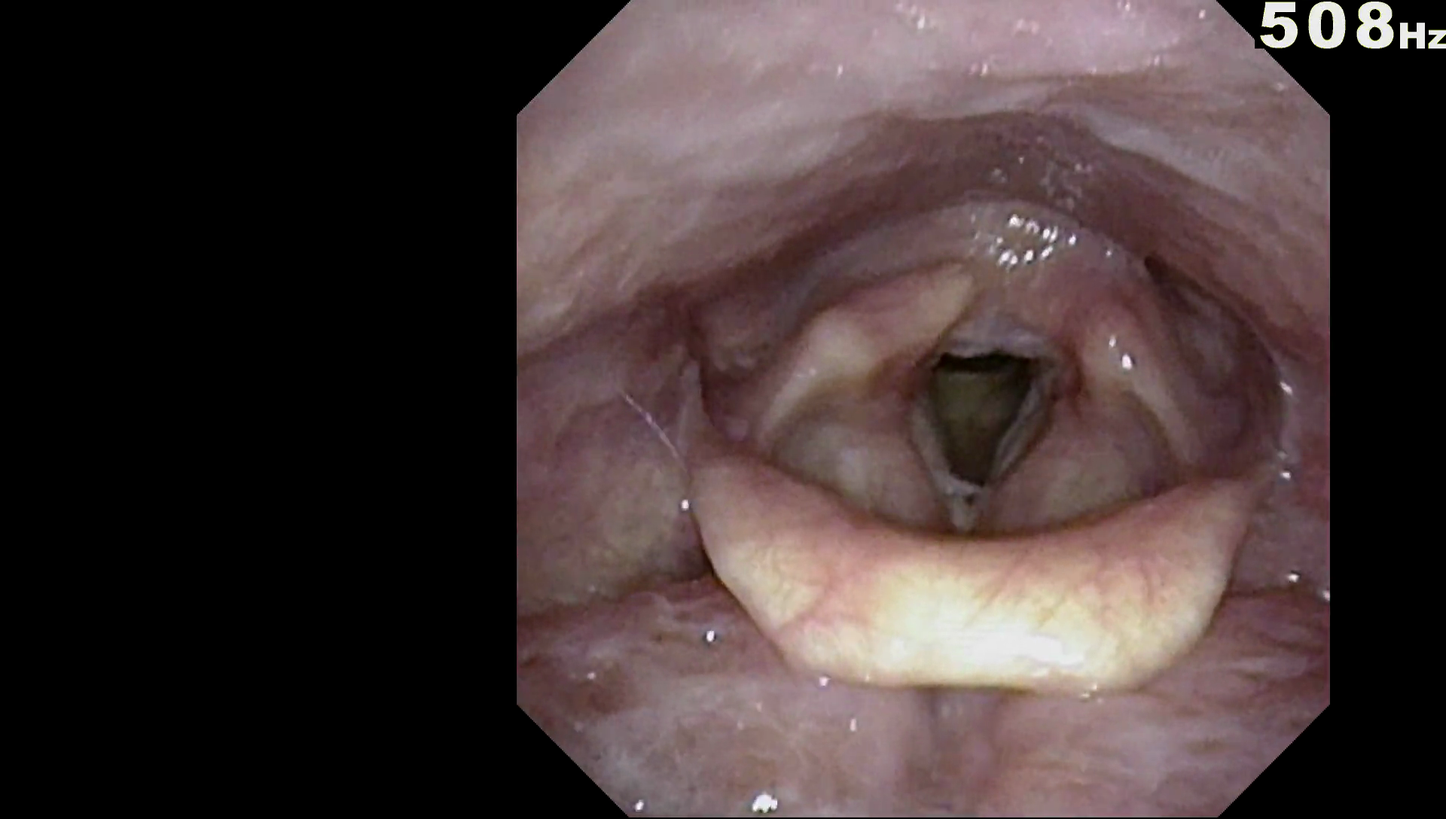trachea: (891, 313, 1078, 544)
